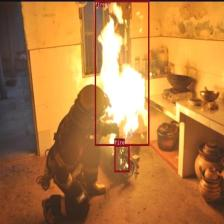fire: (95, 0, 149, 146), (114, 144, 129, 172)
